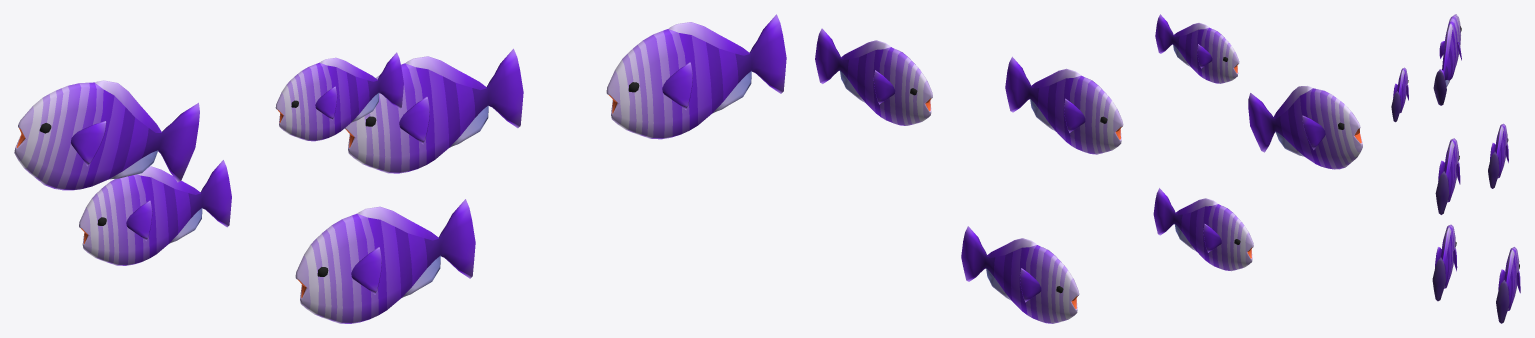
Rendered from Purple_Fish_Group_01.fbx.
3 views of the same model, side by side, from view 1: azimuth 30°, elevation 25°; view 2: azimuth 150°, elevation 25°; view 3: azimuth 270°, elevation 25° (orthographic). The views are drawn at different scales.
Parts seen in each view (by area): view 1: Purple_Fish_Group_01; view 2: Purple_Fish_Group_01; view 3: Purple_Fish_Group_01.
Boxes of the visible parts, bbox=[...] form: Purple_Fish_Group_01: bbox=[14, 14, 786, 323]; Purple_Fish_Group_01: bbox=[815, 14, 1362, 323]; Purple_Fish_Group_01: bbox=[1391, 14, 1520, 323].
Bounding box in the file's own units: 572 × 265 × 152.
